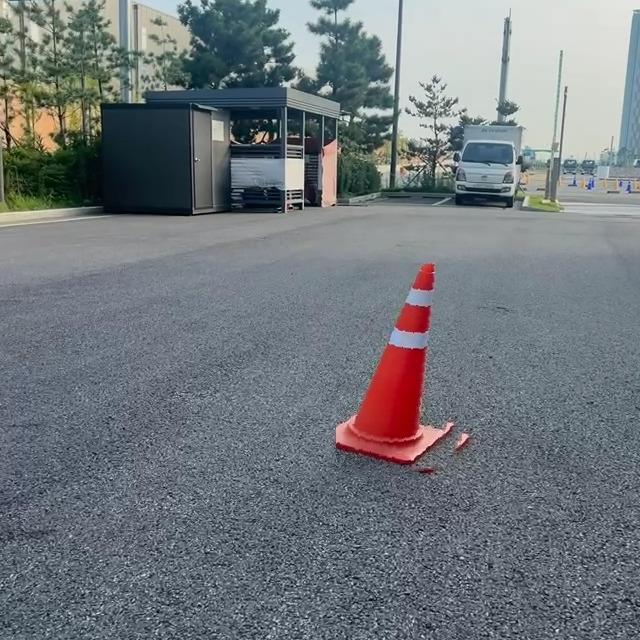fallen_object: (319, 226, 472, 468)
